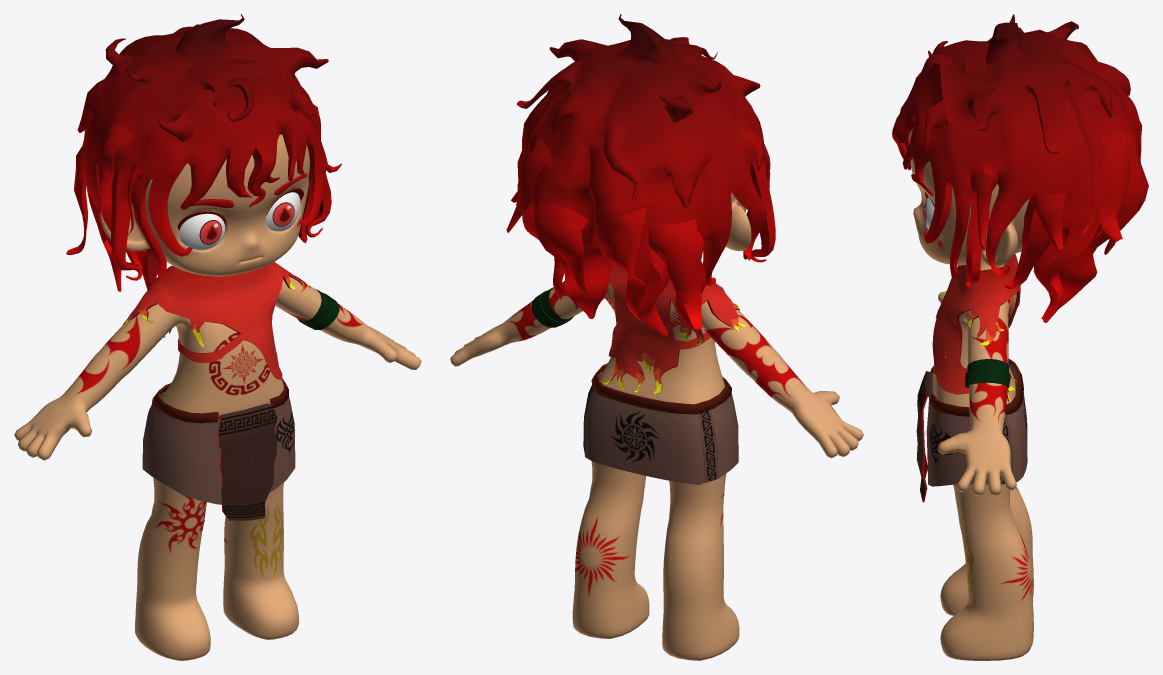
The model's file is Personaje (2).fbx.
3 views of the same model, side by side, from view 1: azimuth 30°, elevation 25°; view 2: azimuth 150°, elevation 25°; view 3: azimuth 270°, elevation 25° (orthographic).
Visible parts, largest first — view 1: BézierCurve.005; view 2: BézierCurve.005; view 3: BézierCurve.005.
Boxes of the visible parts, x1,y1,x2,y2 form: BézierCurve.005: [14, 14, 421, 660]; BézierCurve.005: [450, 14, 863, 660]; BézierCurve.005: [892, 14, 1148, 660].
Bounding box in the file's own units: 1.44 × 0.8167 × 2.15.
Materials: 7 (7 with a texture image).
